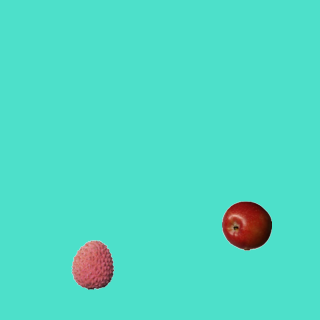Apple Braeburn: (221, 200, 271, 250)
Lychee: (67, 239, 117, 289)
